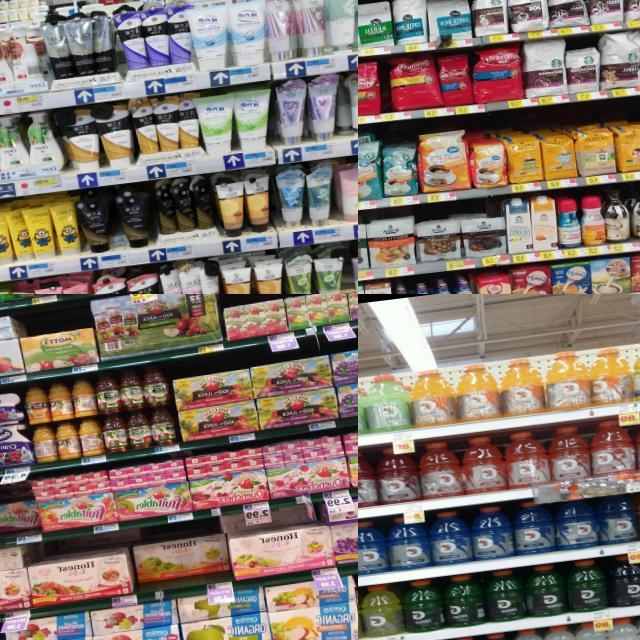Imprecise: (132, 514, 234, 596), (229, 500, 329, 578), (0, 495, 38, 537)
